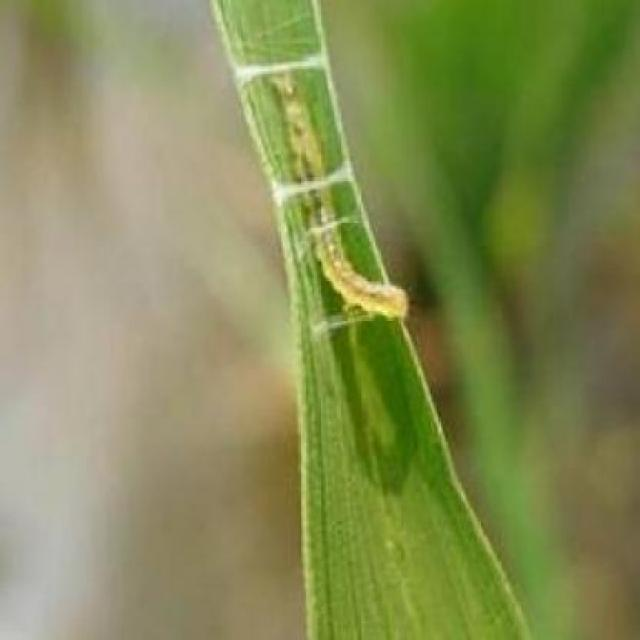leaf-folder: (240, 57, 443, 325)
